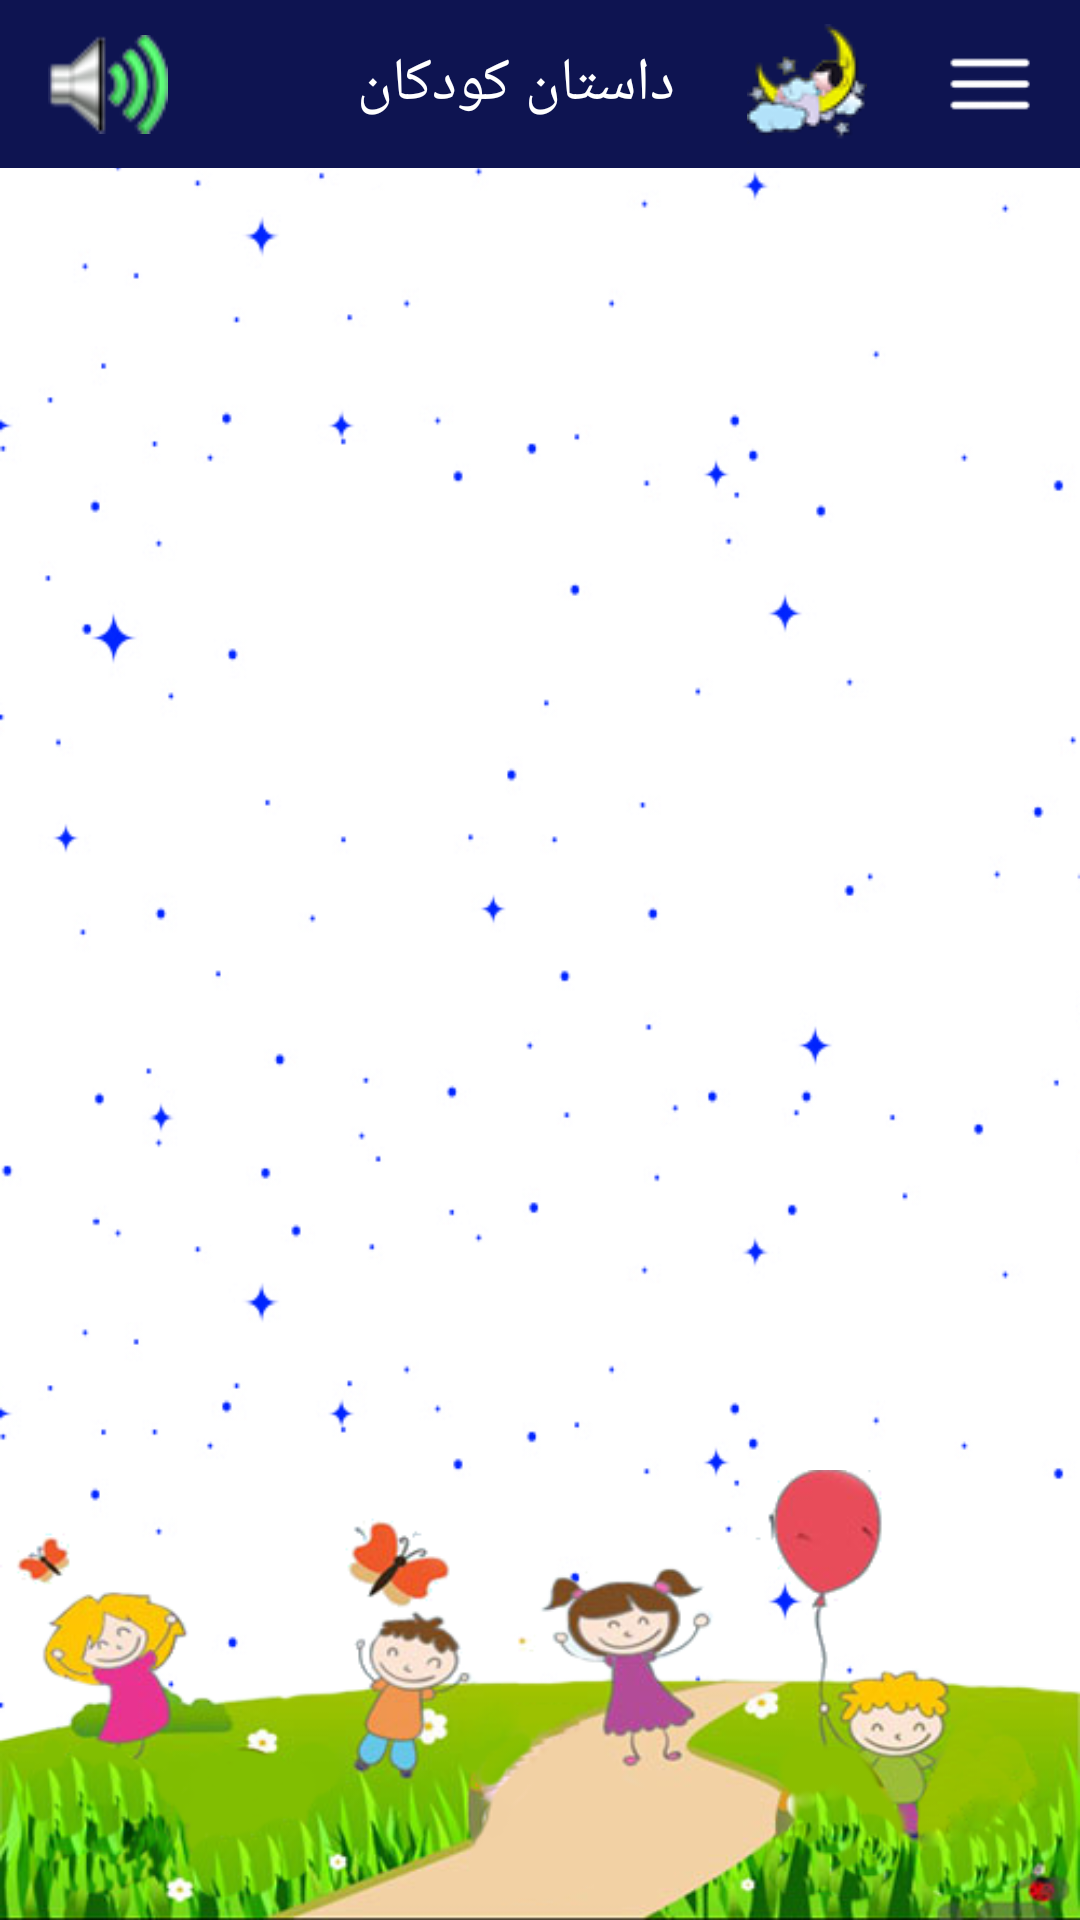

Icon bounding boxes for this 1080×1920 phone screenshot, format (left=x1, top=y1, right=x2, bottom=y2):
menu: (left=950, top=58, right=1030, bottom=110)
volume: (left=50, top=35, right=168, bottom=134)
